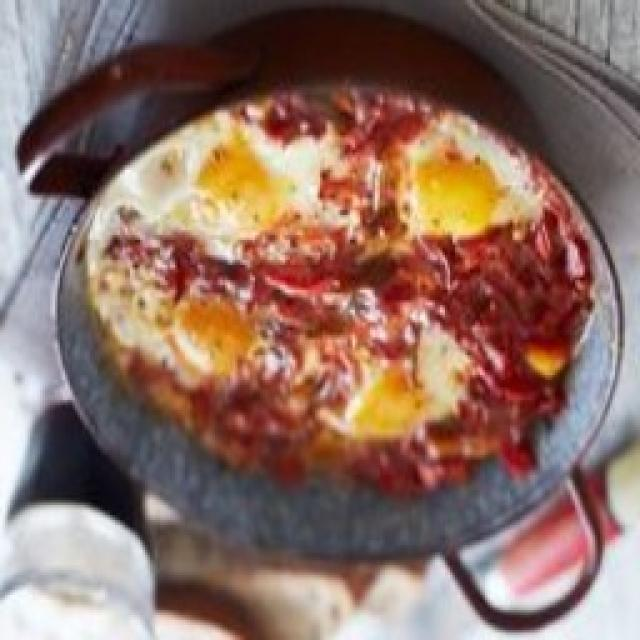Chakchouka: (58, 8, 625, 552)
